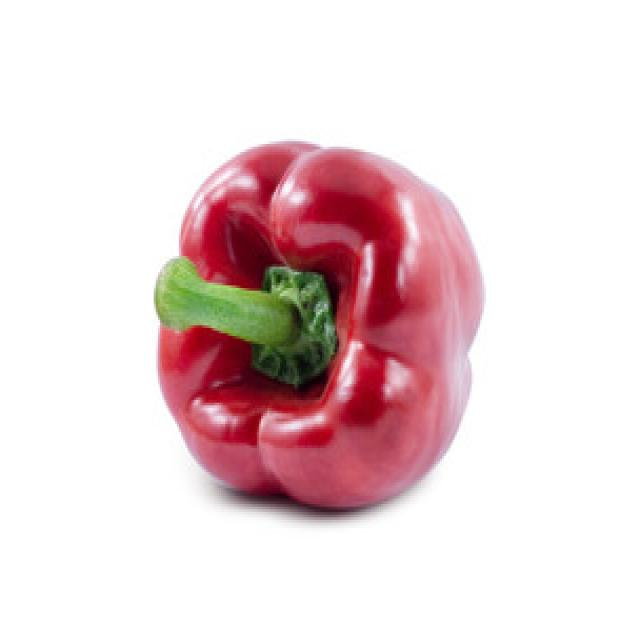Bottle Gourd: (152, 136, 484, 512)
